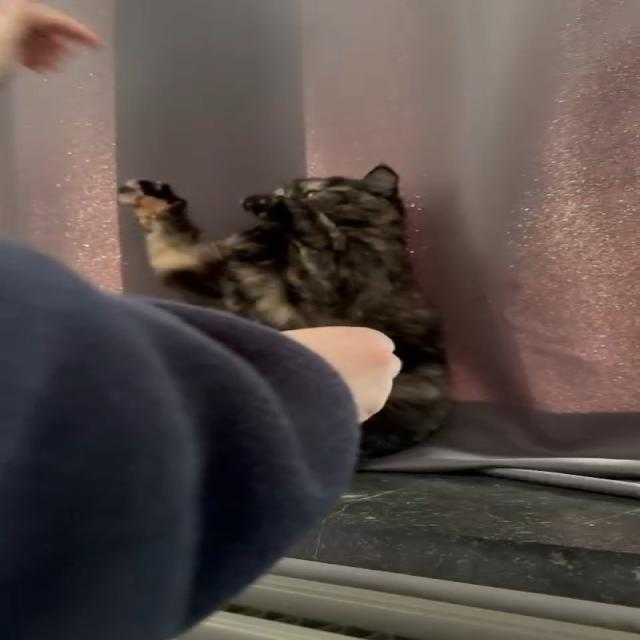authorized: (117, 162, 455, 461)
